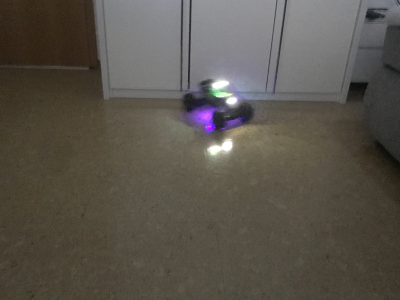remote control car: (177, 78, 255, 132)
